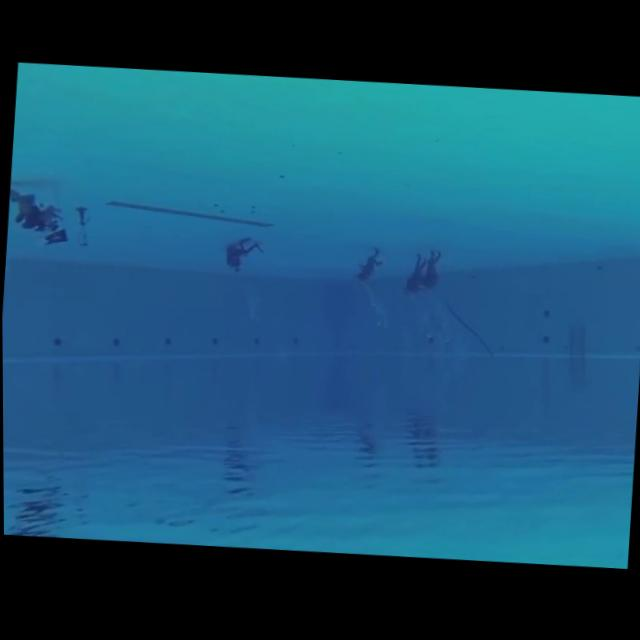human: (6, 175, 75, 250), (218, 230, 266, 282), (351, 243, 385, 292), (399, 249, 429, 303), (423, 243, 448, 295)
